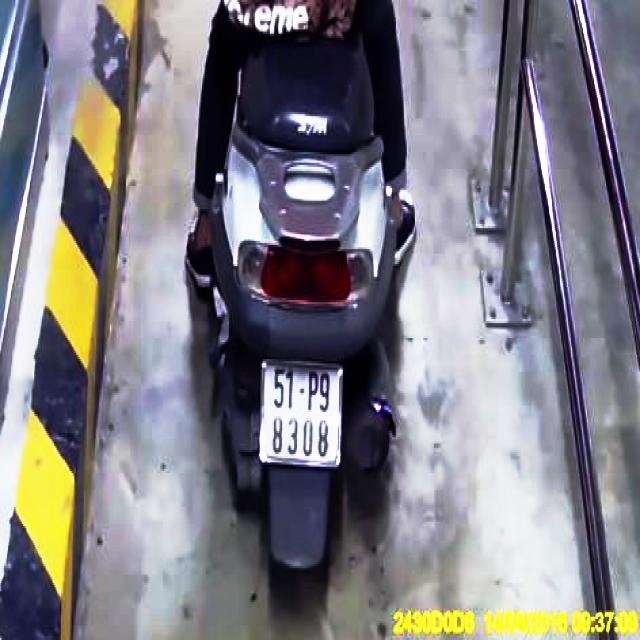license_plate: (260, 361, 344, 468)
